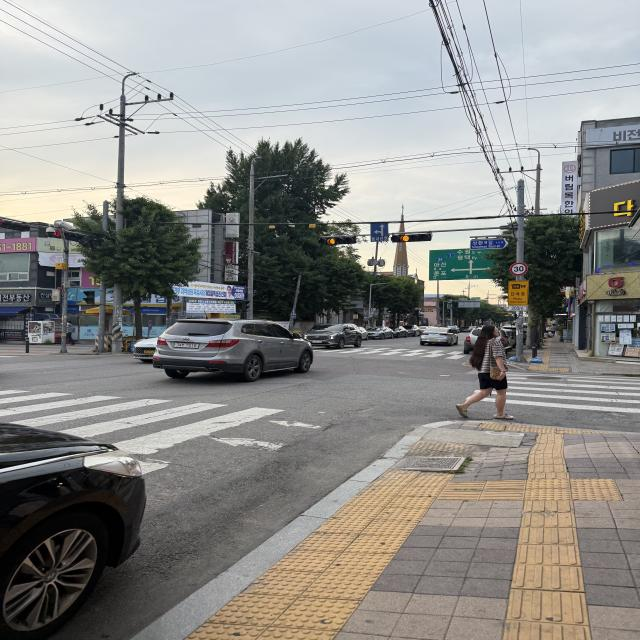car: (0, 425, 148, 634), (154, 315, 316, 381), (463, 321, 513, 355), (131, 331, 176, 367), (307, 324, 359, 349), (417, 324, 459, 350), (366, 324, 393, 343)
